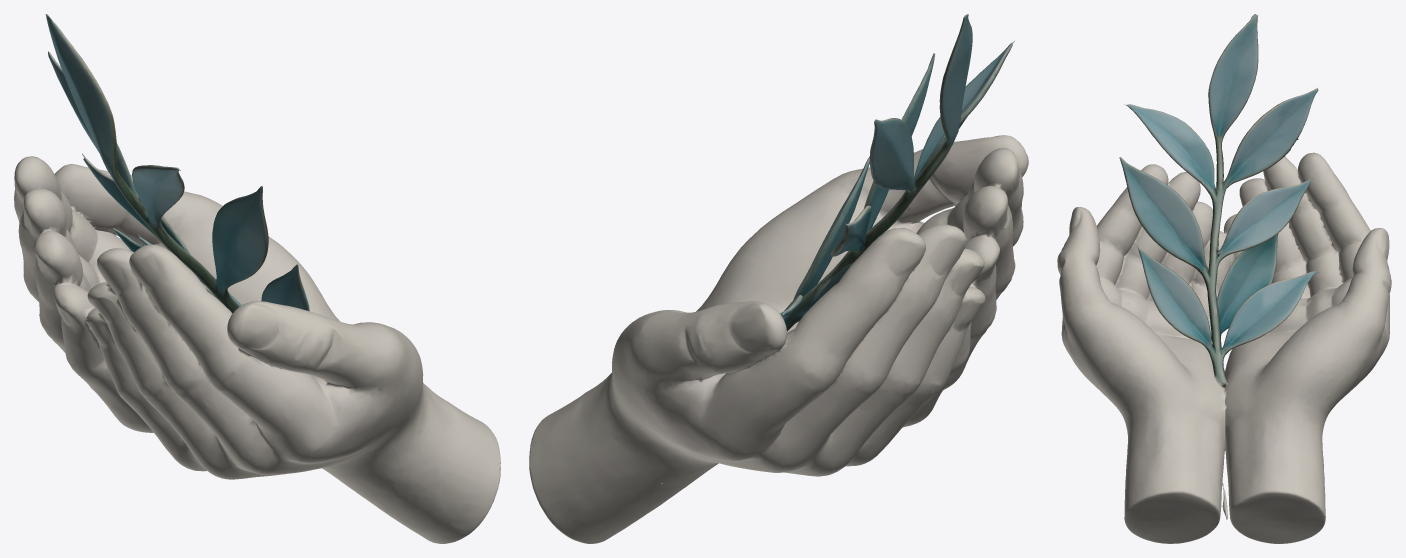
The model's file is hero.glb.
3 views of the same model, side by side, from view 1: azimuth 30°, elevation 25°; view 2: azimuth 150°, elevation 25°; view 3: azimuth 270°, elevation 25° (orthographic). The views are drawn at different scales.
Parts seen in each view (by area): view 1: PorcelainHands; view 2: PorcelainHands; view 3: PorcelainHands.
Boxes of the visible parts, <box> form: PorcelainHands: <box>14,14,500,543</box>; PorcelainHands: <box>529,14,1028,543</box>; PorcelainHands: <box>1057,14,1391,543</box>.
Size of the model in its own units: 0.2939 by 0.4 by 0.2935.
Materials: 1 (1 with a texture image).
